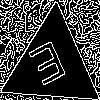E: (27, 39, 72, 96)
